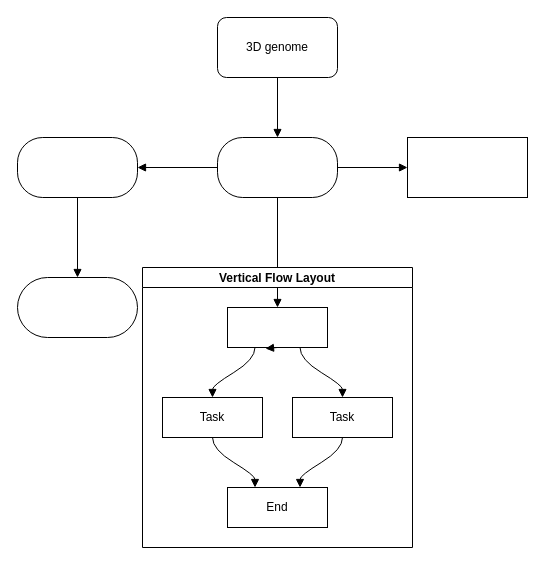
Image size: 545x565. Some labels were removed from this diagram. The shapes that lost their labels are listed below. From the top down, each one's centre as x and y in pixels, then its label:
the point at 277,167: TAD
the point at 277,327: Start
